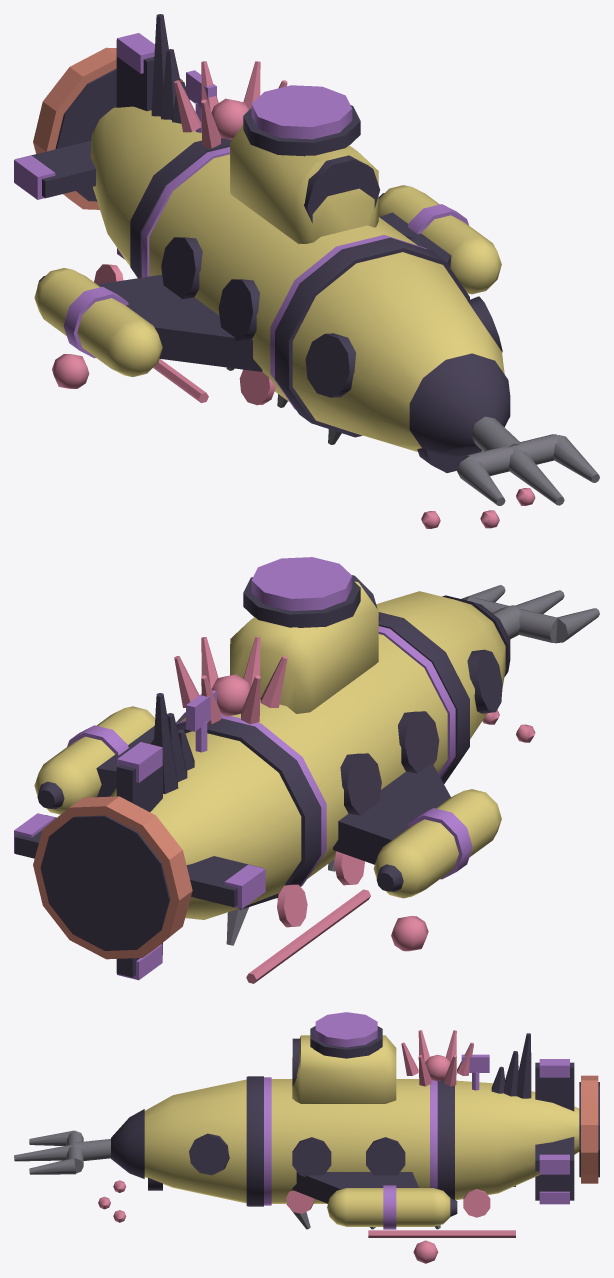
File: submarines_AbyssKing.glb
3 renders of one model, top to bottom at view 1: azimuth 30°, elevation 25°; view 2: azimuth 150°, elevation 25°; view 3: azimuth 270°, elevation 25°, orthographic. The views are drawn at different scales.
Visible parts, largest first — view 1: Hull, Hull_Glow; view 2: Hull, Hull_Glow; view 3: Hull, Hull_Glow.
Part boxes in pixels (<box>): Hull: <box>14,14,599,505</box>; Hull_Glow: <box>52,61,535,528</box>; Hull: <box>14,557,599,980</box>; Hull_Glow: <box>174,637,535,983</box>; Hull: <box>14,1012,599,1229</box>; Hull_Glow: <box>98,1030,515,1263</box>.
Bounding box in the file's own units: 27.3 × 20.64 × 53.98.
